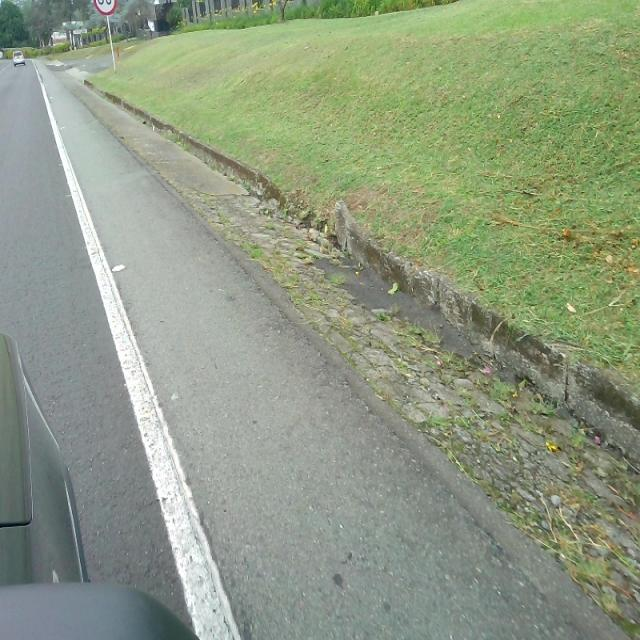DITCH: (54, 64, 639, 638)
